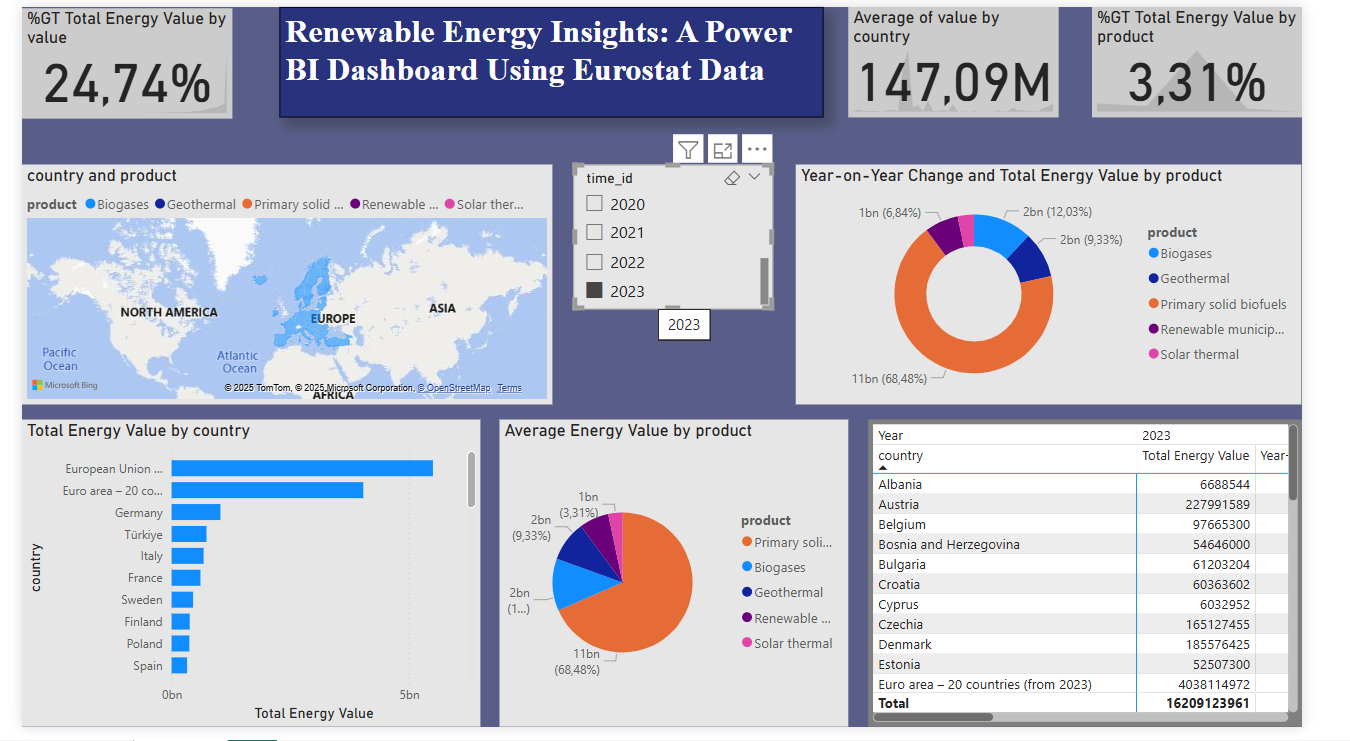

What the dashboard file says about the page in this screenshot:
{"tool":"powerbi","page":{"name":"Page 1","canvas":[1280,720],"ordinal":0},"visuals":[{"type":"clusteredBarChart","fields":{"Category":["dim_country.country"],"Y":["fact_energy.TOTAL Energy Value"]},"box":[0,412.9,458.6,307.1],"z":0},{"type":"slicer","fields":{"Values":["fact_energy.time_id"]},"box":[551.2,157.5,200,145],"z":1000},{"type":"donutChart","fields":{"Y":["dim_time.Year-on-Year Change","fact_energy.Total Energy Value"],"Category":["dim_energy_product.product"]},"box":[774.3,157.1,505.7,240],"z":2000},{"type":"pivotTable","fields":{"Rows":["dim_country.country"],"Columns":["dim_time.Year"],"Values":["fact_energy.Total Energy Value","dim_time.Year-on-Year Change"]},"box":[845.7,412.9,434.3,307.1],"z":3000},{"type":"pieChart","fields":{"Y":["fact_energy.Average Energy Value"],"Category":["dim_energy_product.product"]},"box":[477.1,412.9,348.6,307.1],"z":4000},{"type":"filledMap","fields":{"Category":["dim_country.country"],"Series":["dim_energy_product.product"]},"box":[0,157.1,530,240],"z":5000},{"type":"kpi","fields":{"Indicator":["fact_energy.Total Energy Value"],"TrendLine":["dim_energy_product.product"]},"box":[1070,0,210,110],"z":6000},{"type":"kpi","fields":{"TrendLine":["dim_country.country"],"Indicator":["Avg(fact_energy.value)"]},"box":[825.7,0,210,110],"z":7000},{"type":"kpi","fields":{"Indicator":["fact_energy.Total Energy Value"],"TrendLine":["fact_energy.value"]},"box":[0,1.4,210,110],"z":8000},{"type":"textbox","box":[257.1,0,544.3,110],"z":9000}]}

Visuals, with their boxes in screenshot pixels (x1, y1, x2, y2), scaled from the page's 1280x720 canvas onto the 1350x741 screenshot:
clusteredBarChart - dim_country.country x fact_energy.TOTAL Energy Value: (x1=0, y1=425, x2=484, y2=740)
slicer - fact_energy.time_id: (x1=581, y1=162, x2=792, y2=311)
donutChart - dim_time.Year-on-Year Change x fact_energy.Total Energy Value: (x1=817, y1=162, x2=1349, y2=409)
pivotTable - dim_country.country x dim_time.Year: (x1=892, y1=425, x2=1349, y2=740)
pieChart - fact_energy.Average Energy Value x dim_energy_product.product: (x1=503, y1=425, x2=871, y2=740)
filledMap - dim_country.country x dim_energy_product.product: (x1=0, y1=162, x2=559, y2=409)
kpi - fact_energy.Total Energy Value x dim_energy_product.product: (x1=1129, y1=0, x2=1349, y2=113)
kpi - dim_country.country x Avg(fact_energy.value): (x1=871, y1=0, x2=1092, y2=113)
kpi - fact_energy.Total Energy Value x fact_energy.value: (x1=0, y1=1, x2=221, y2=115)
textbox: (x1=271, y1=0, x2=845, y2=113)
